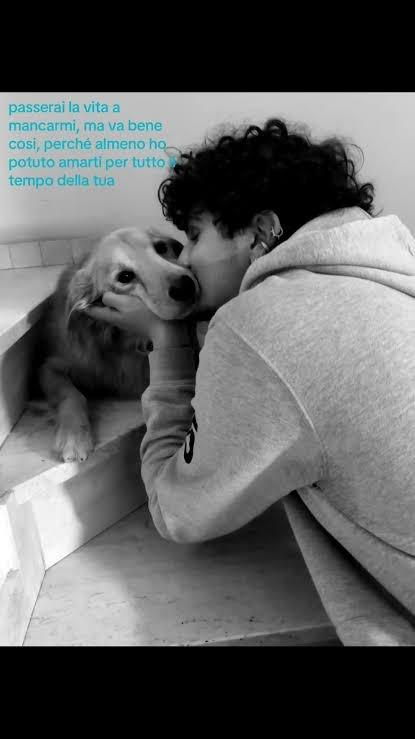adult_dog: (28, 225, 206, 463)
